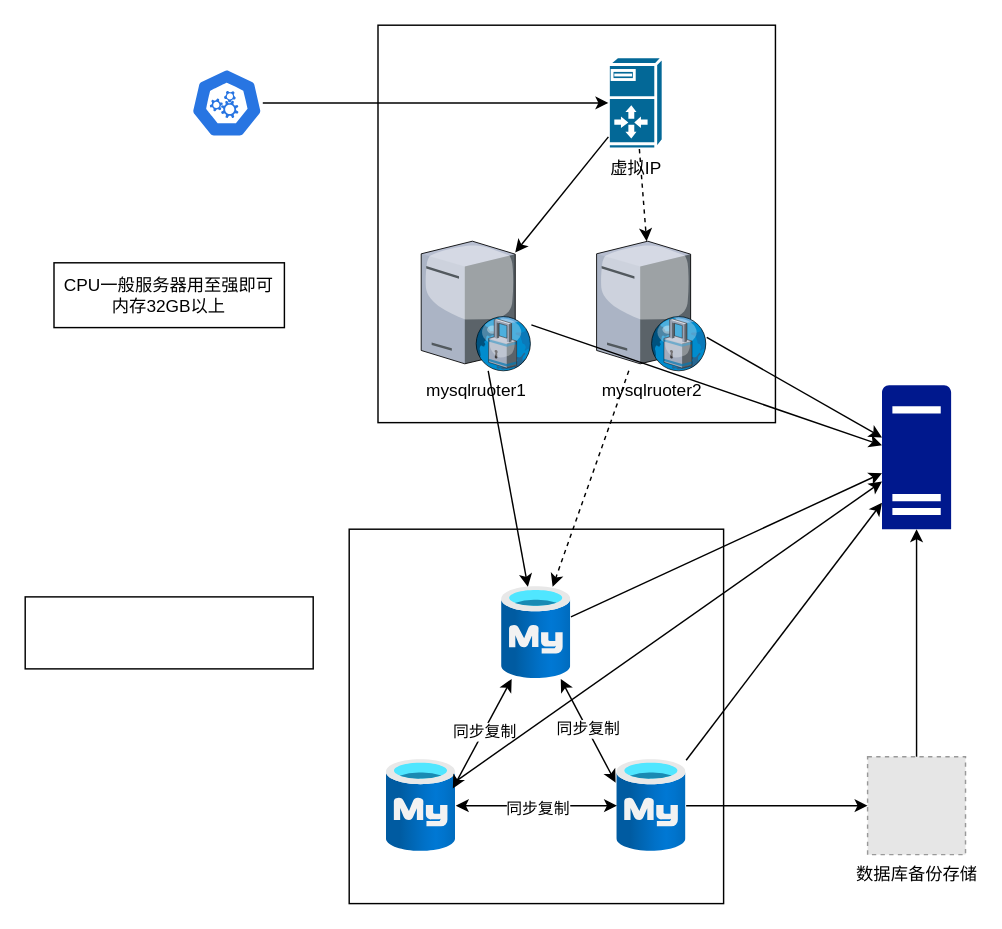
This 1002x929 diagram has some shape labels left out. Grey dashed boxes stand in for pictures. The centre of each missing label's shape, as x and y in pixels:
CPU一般服务器用至强即可 内存2T以上 磁盘SSD最好，机械硬盘也可以: point (168, 632)
后端服务器: point (226, 102)
监控告警服务器: point (915, 456)
